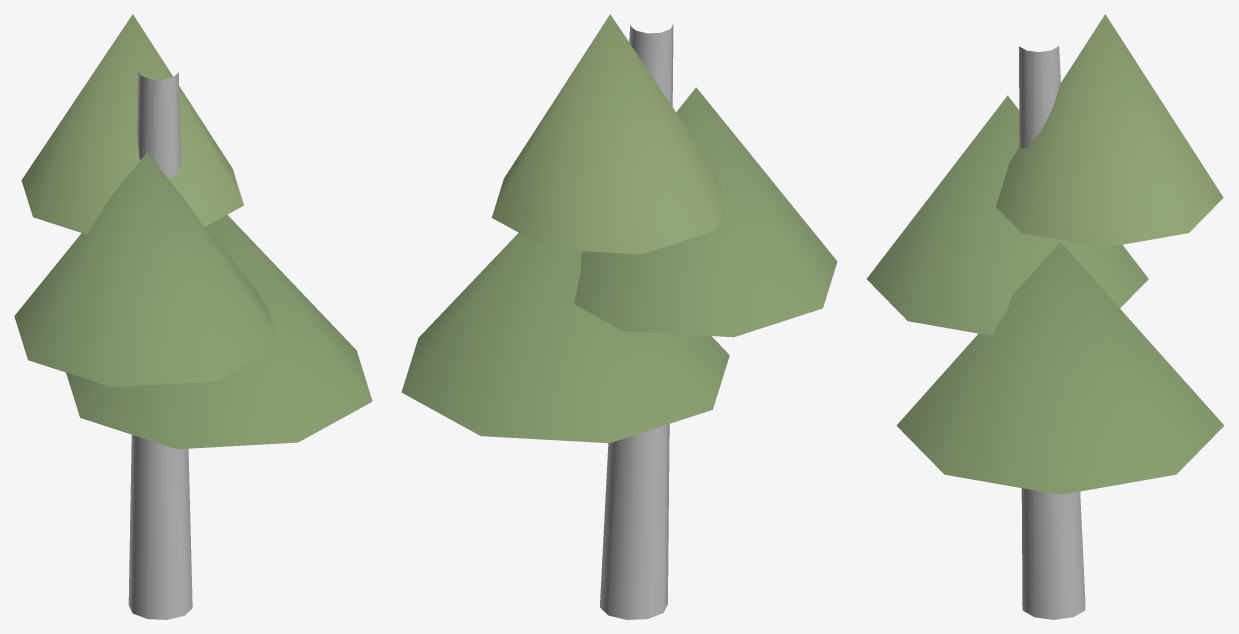
The model's file is pine_v0_far.gltf.
3 renders of one model, left to right at view 1: azimuth 30°, elevation 25°; view 2: azimuth 150°, elevation 25°; view 3: azimuth 270°, elevation 25°, orthographic. The views are drawn at different scales.
Parts seen in each view (by area): view 1: foliage, bark; view 2: foliage, bark; view 3: foliage, bark.
Boxes of the visible parts, x1,y1,x2,y2 form: foliage: [14, 14, 372, 449]; bark: [128, 70, 192, 619]; foliage: [401, 14, 837, 443]; bark: [600, 24, 673, 619]; foliage: [867, 14, 1224, 494]; bark: [1019, 46, 1085, 619].
Size of the model in its own units: 2.8 by 4.34 by 2.38.
